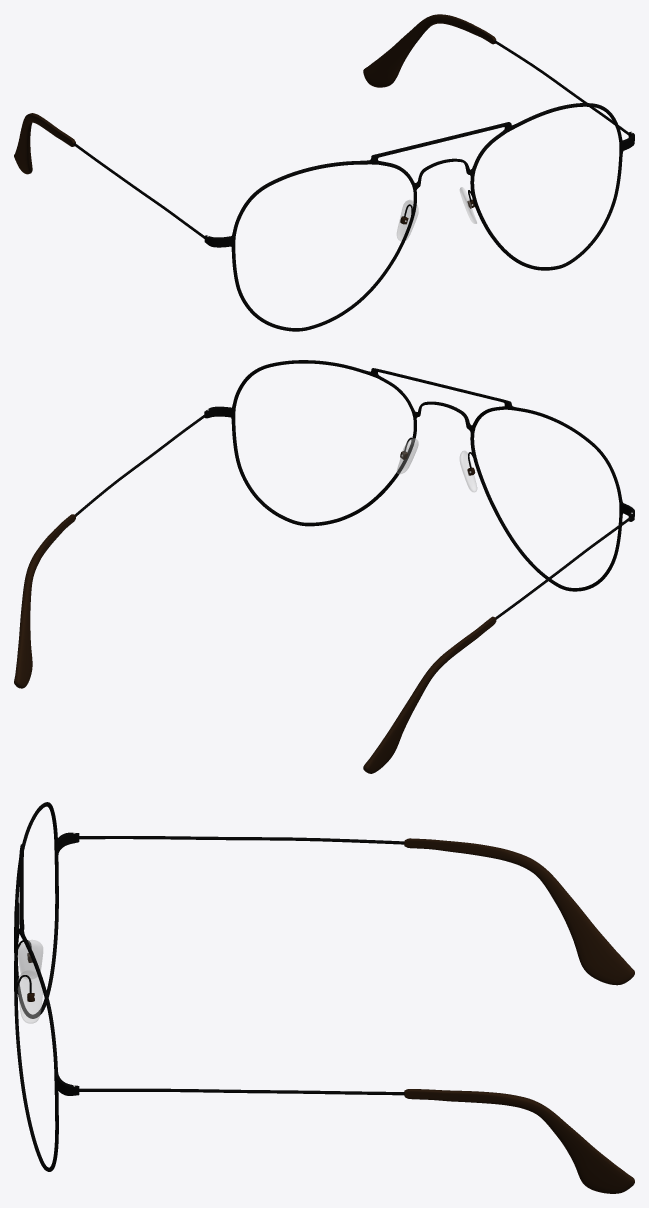
The picture shows the model from 3 angles, top to bottom: view 1: azimuth 30°, elevation 25°; view 2: azimuth 150°, elevation 25°; view 3: azimuth 270°, elevation 25°; orthographic projection. The views are drawn at different scales.
Parts seen in each view (by area): view 1: Aviators; view 2: Aviators; view 3: Aviators.
Boxes of the visible parts, bbox=[...] form: Aviators: bbox=[14, 14, 634, 331]; Aviators: bbox=[14, 360, 634, 773]; Aviators: bbox=[14, 802, 634, 1193].
Bounding box in the file's own units: 13.96 × 5.22 × 14.4.
